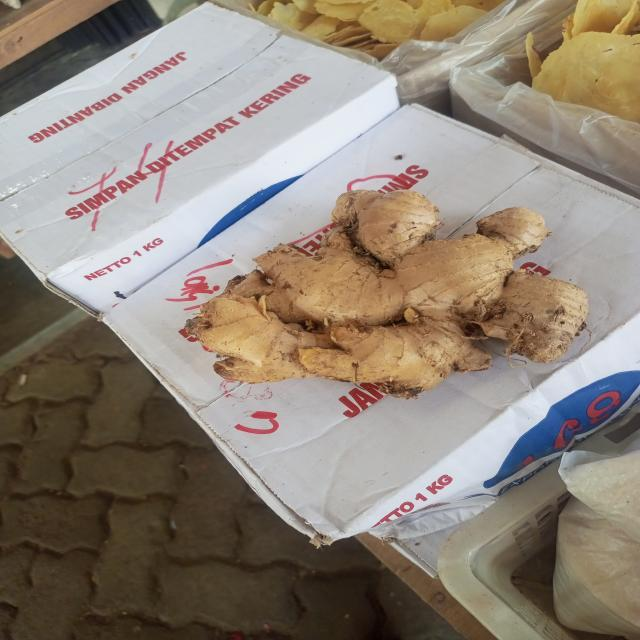ginger: (187, 188, 590, 390)
